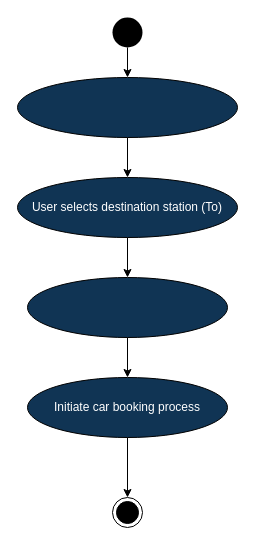
Image size: 255x545. Some labels were removed from this diagram. Here are the shapes that lost their labels. From the top down, the centre of each, then its label:
At point 127,107: "User selects boarding station (From)".
At point 127,307: "User provides journey date".
